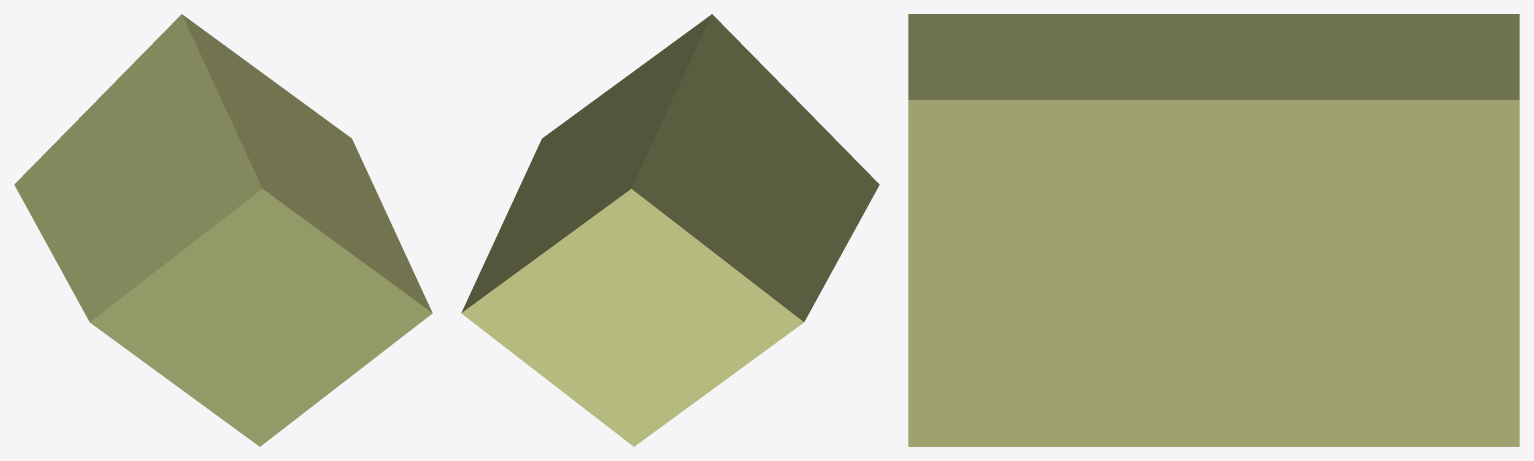
3 views of the same model, side by side, from view 1: azimuth 30°, elevation 25°; view 2: azimuth 150°, elevation 25°; view 3: azimuth 270°, elevation 25° (orthographic). The views are drawn at different scales.
Visible parts, largest first — view 1: 0_1_3_2_1_1_2_3_3_3; view 2: 0_1_3_2_1_1_2_3_3_3; view 3: 0_1_3_2_1_1_2_3_3_3.
Part boxes in pixels (<box>): 0_1_3_2_1_1_2_3_3_3: <box>14,14,432,446</box>; 0_1_3_2_1_1_2_3_3_3: <box>461,14,879,446</box>; 0_1_3_2_1_1_2_3_3_3: <box>908,14,1519,446</box>.
Size of the model in its own units: 7.58 by 8.34 by 9.
